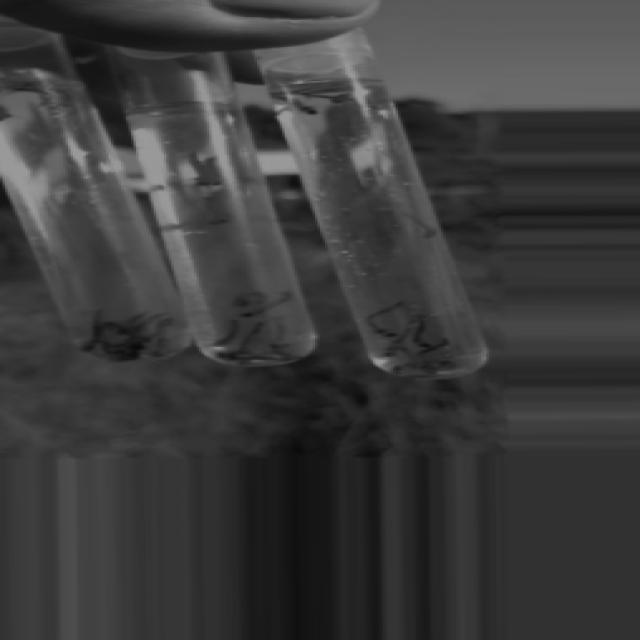larvas: (241, 290, 293, 318), (379, 325, 415, 359), (393, 357, 456, 376), (369, 301, 400, 337), (83, 311, 107, 354), (125, 311, 166, 335), (414, 338, 453, 360), (404, 214, 437, 238), (280, 95, 316, 116), (213, 318, 237, 346), (188, 155, 206, 187), (299, 92, 352, 102), (415, 316, 431, 349), (233, 290, 268, 304), (244, 323, 262, 350), (217, 192, 232, 224), (121, 311, 146, 329), (224, 353, 279, 361), (274, 318, 286, 349), (207, 158, 220, 186), (97, 320, 125, 333), (152, 319, 170, 339), (204, 198, 215, 222), (103, 341, 119, 357), (130, 340, 148, 351), (117, 352, 139, 360)
